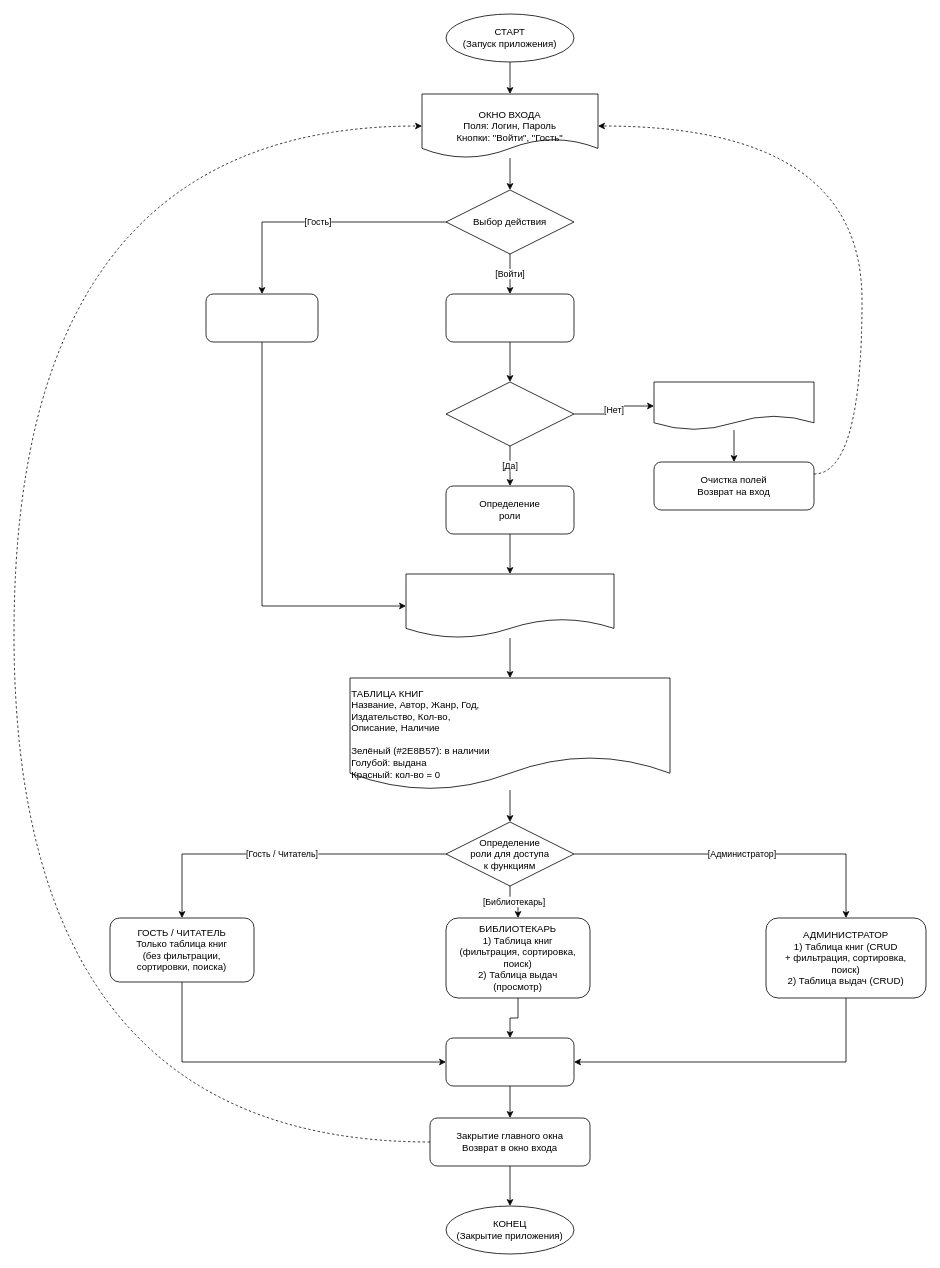
This 940x1268 diagram has some shape labels left out. The shapes that lost their labels are listed below. From the top down, each one's centre as x and y in pixels, then its label:
the point at 261,317: РОЛЬ: ГОСТЬ (Без логина)
the point at 509,317: Проверка данных в БД
the point at 509,413: Данные верны?
the point at 733,405: Сообщение об ошибке: "Неверный логин или пароль"
the point at 509,605: ГЛАВНОЕ ОКНО ФИО пользователя Кнопка "Выйти"
the point at 509,1061: Кнопка "Выйти"
